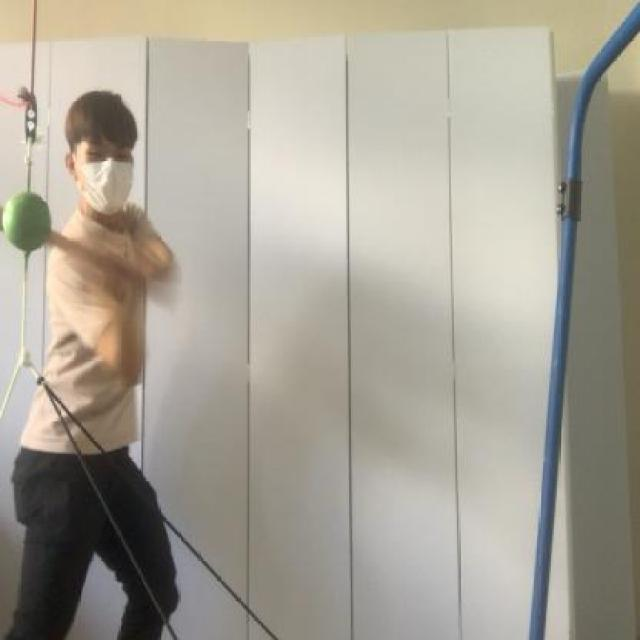baseball: (0, 180, 57, 263)
